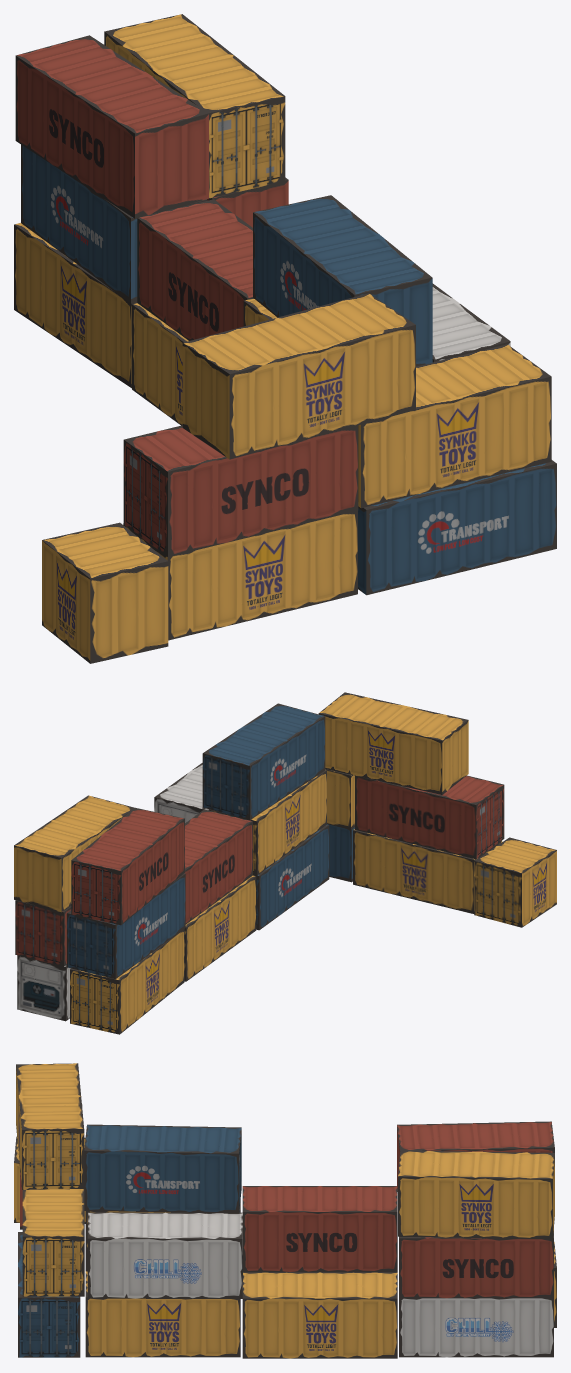
Rendered from SM_Prop_Container_Stack_05.fbx.
The picture shows the model from 3 angles, top to bottom: view 1: azimuth 30°, elevation 25°; view 2: azimuth 150°, elevation 25°; view 3: azimuth 270°, elevation 25°; orthographic projection. The views are drawn at different scales.
Parts seen in each view (by area): view 1: SM_Prop_Container_Stack_05; view 2: SM_Prop_Container_Stack_05; view 3: SM_Prop_Container_Stack_05.
Part boxes in pixels (x1=…): SM_Prop_Container_Stack_05: x1=14, y1=14, x2=556, y2=663; SM_Prop_Container_Stack_05: x1=14, y1=692, x2=556, y2=1034; SM_Prop_Container_Stack_05: x1=14, y1=1063, x2=556, y2=1358.
Size of the model in its own units: 1503 by 777 by 2122.
